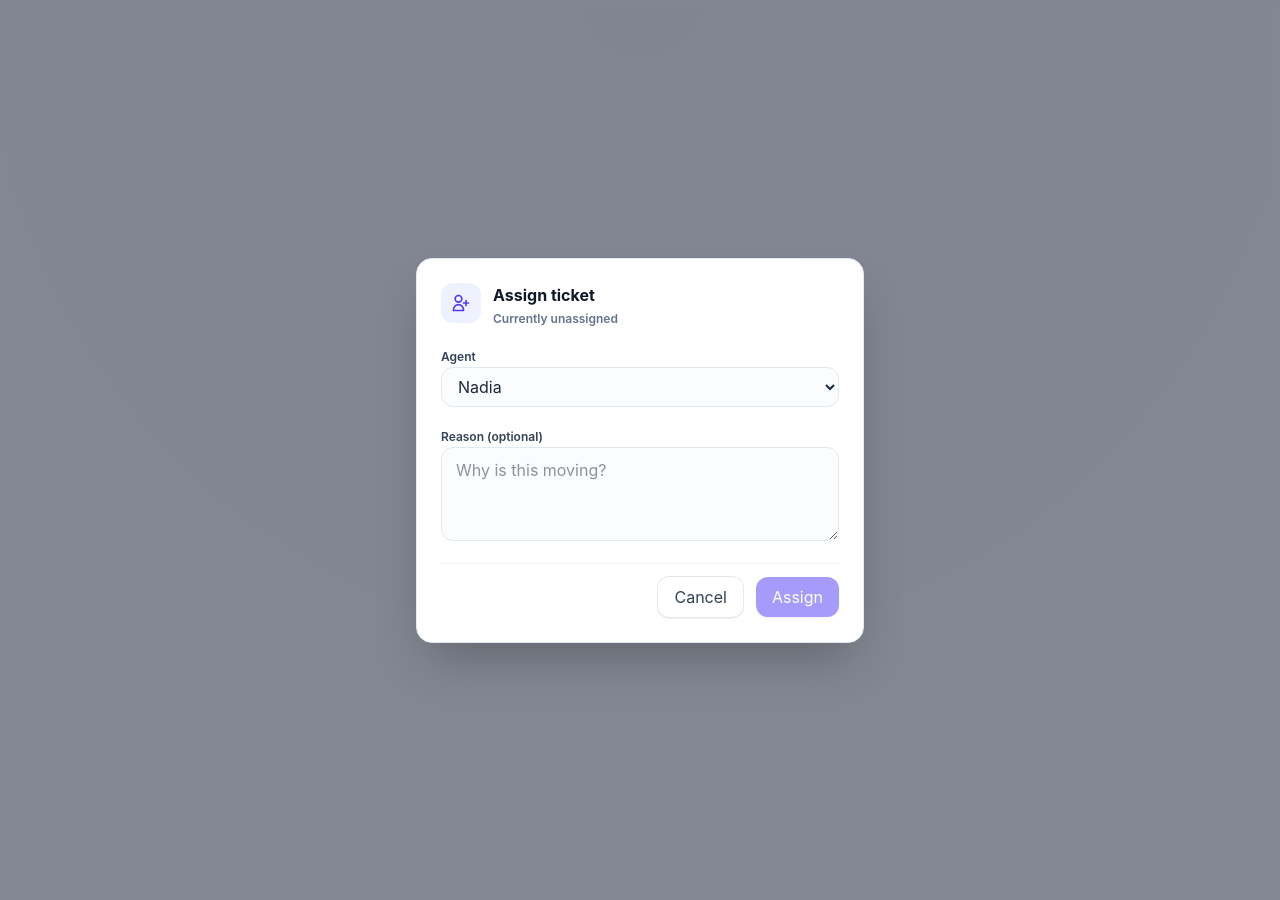
TicketAssignDialog › renders a 422 under assigned_to
Select "Nadia" in the dropdown with test id "ticket-assign-select" at (640, 386), box [441,366,839,406]
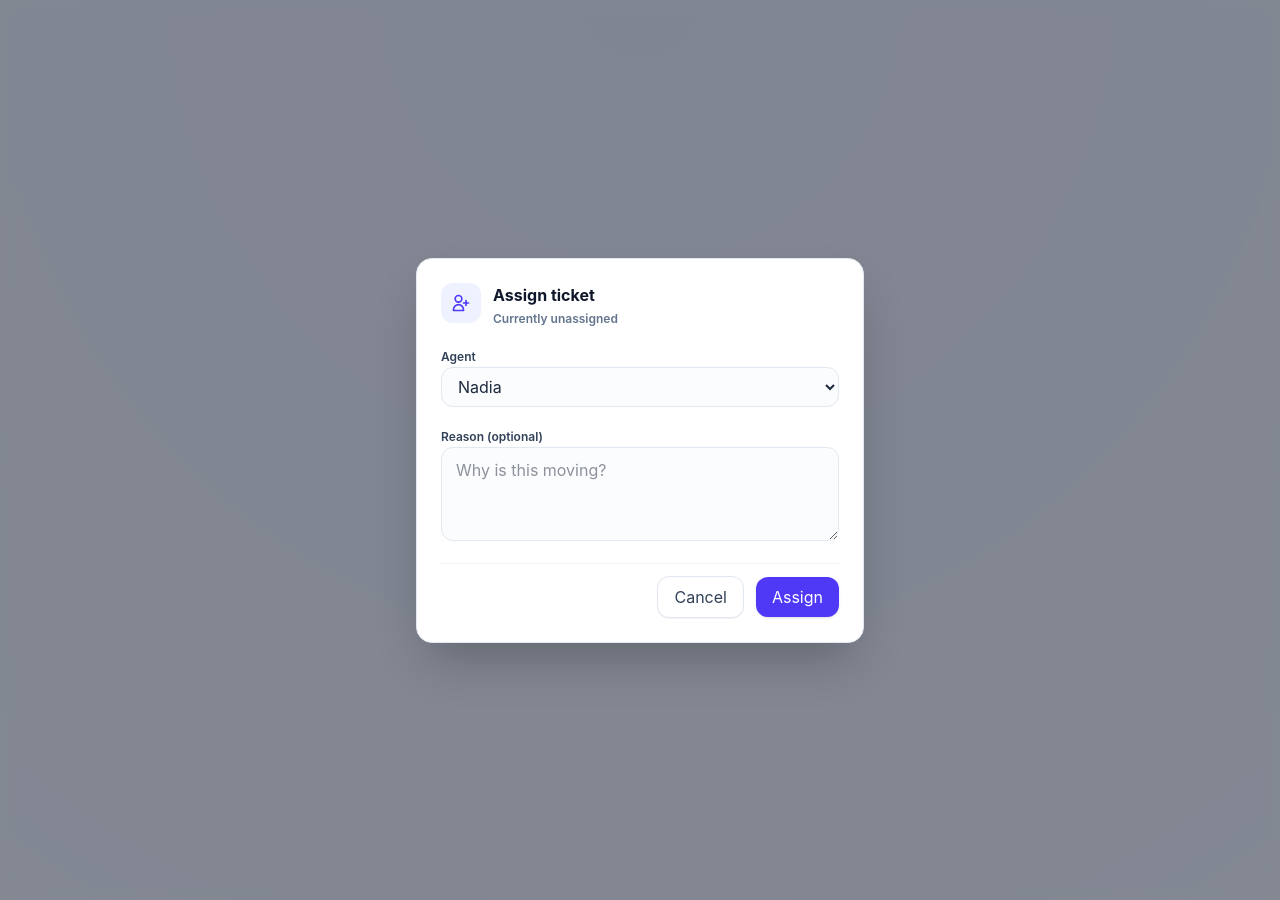
Click the button with test id "ticket-assign-confirm" at (797, 596), box [756,576,839,616]
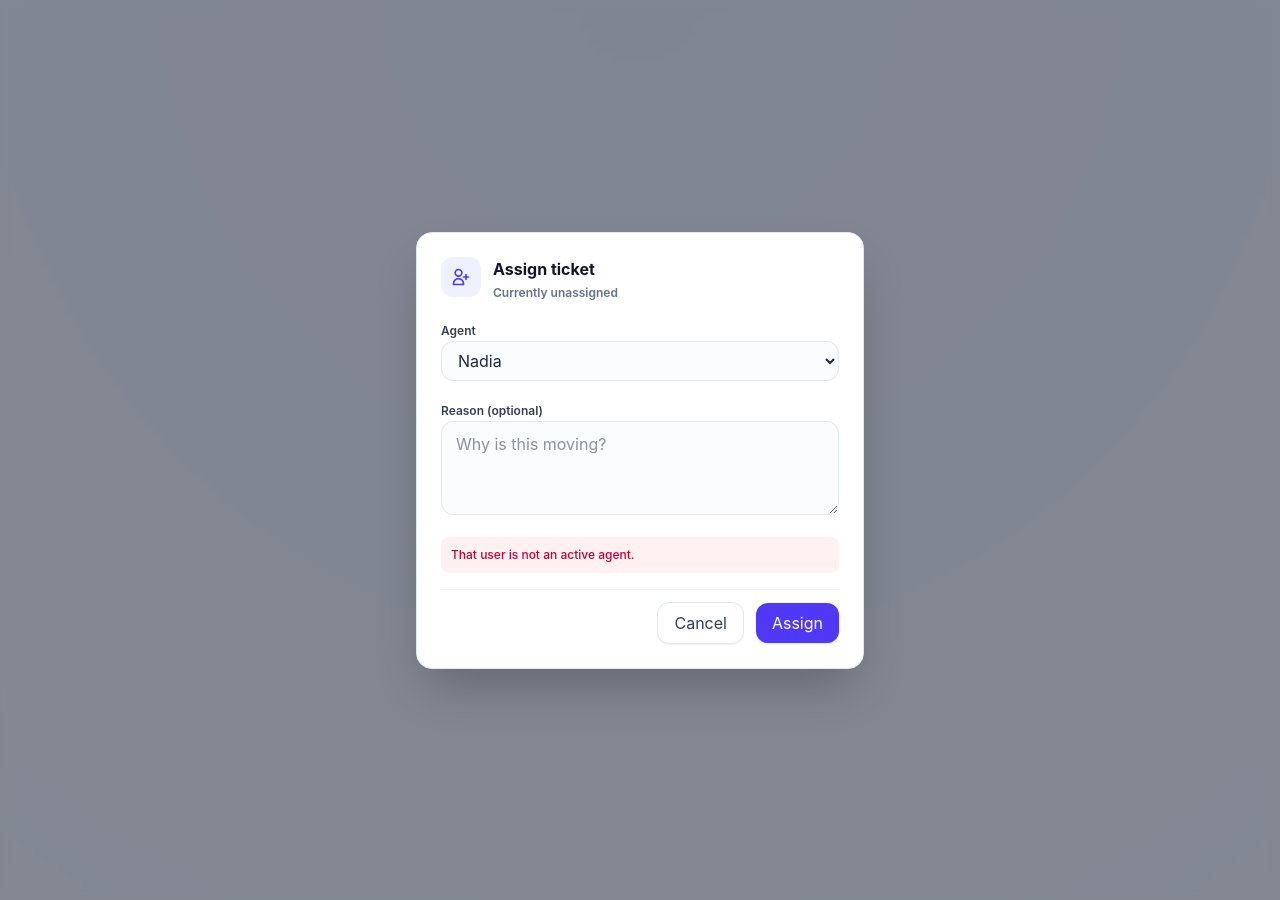
Now the text with test id "ticket-assign-error" reads "That user is not an active agent.", box [451,546,634,562]
